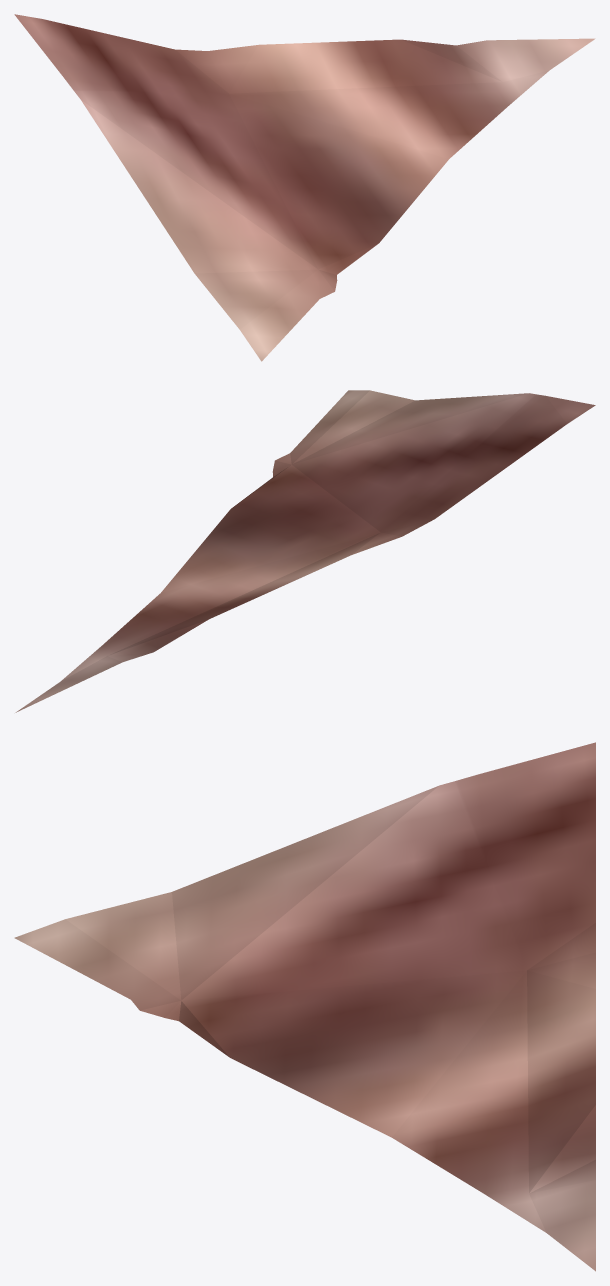
3 renders of one model, top to bottom at view 1: azimuth 30°, elevation 25°; view 2: azimuth 210°, elevation 25°; view 3: azimuth 270°, elevation 25°, orthographic. The views are drawn at different scales.
Size of the model in its own units: 0.188 by 0.0514 by 0.1386.
1 material, 1 textured.
